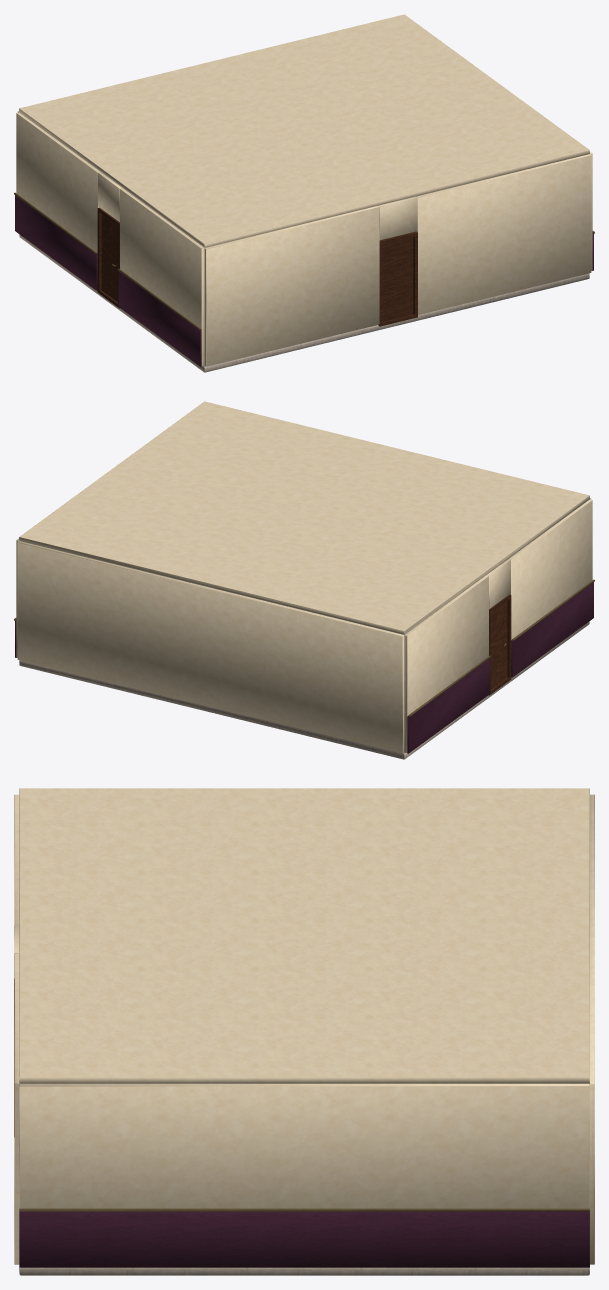
File: explore3d__reading_room.glb
3 views of the same model, one above another, from view 1: azimuth 30°, elevation 25°; view 2: azimuth 150°, elevation 25°; view 3: azimuth 270°, elevation 25° (orthographic). The views are drawn at different scales.
Parts seen in each view (by area): view 1: Rebuilt_reading_room; view 2: Rebuilt_reading_room; view 3: Rebuilt_reading_room.
Part boxes in pixels (box(x1,y1,x2,y2)): Rebuilt_reading_room: box(14, 14, 594, 372); Rebuilt_reading_room: box(14, 401, 594, 759); Rebuilt_reading_room: box(14, 788, 594, 1275).
Size of the model in its own units: 12.32 by 3.84 by 10.19.
16 materials, 14 textured.
